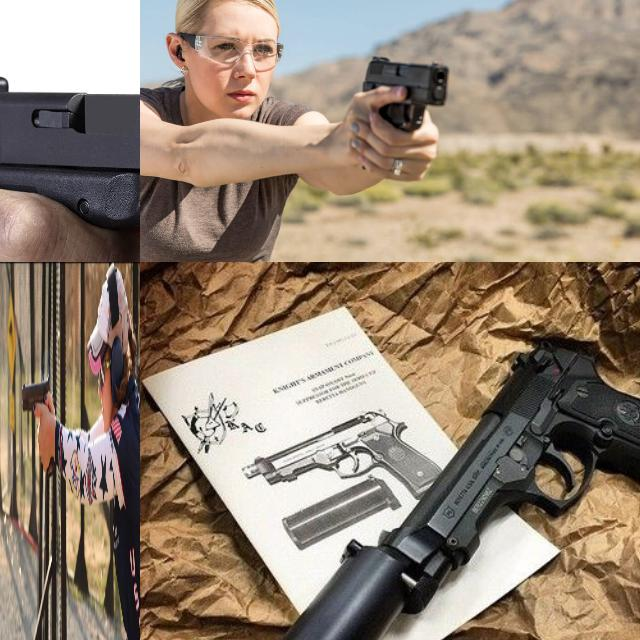handgun: (375, 335, 640, 619), (0, 70, 140, 262), (360, 52, 452, 144), (21, 371, 56, 481)
